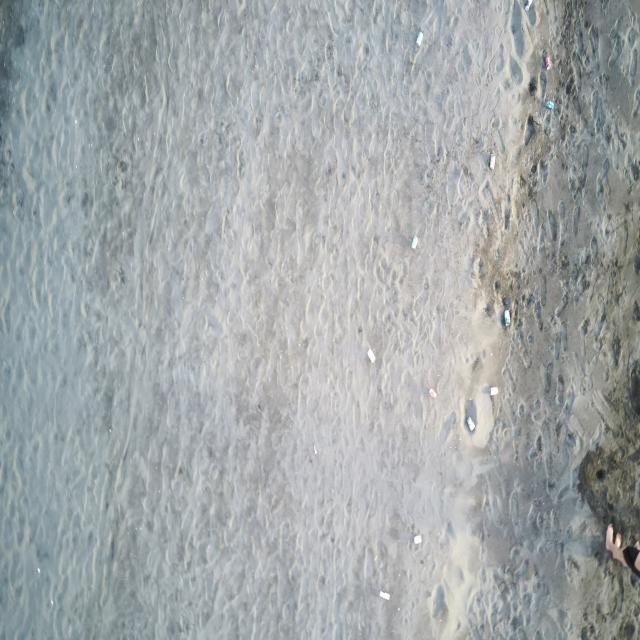Garbage: (464, 399, 475, 431), (503, 296, 510, 327), (503, 308, 510, 327), (467, 415, 475, 431), (367, 348, 375, 362), (544, 54, 551, 68), (488, 156, 495, 169), (415, 32, 422, 45), (544, 100, 553, 110), (524, 0, 532, 11), (428, 387, 436, 397), (503, 296, 510, 307), (379, 591, 388, 599), (413, 533, 419, 544), (489, 387, 497, 395), (411, 236, 416, 248), (312, 443, 316, 453), (35, 567, 40, 572)
